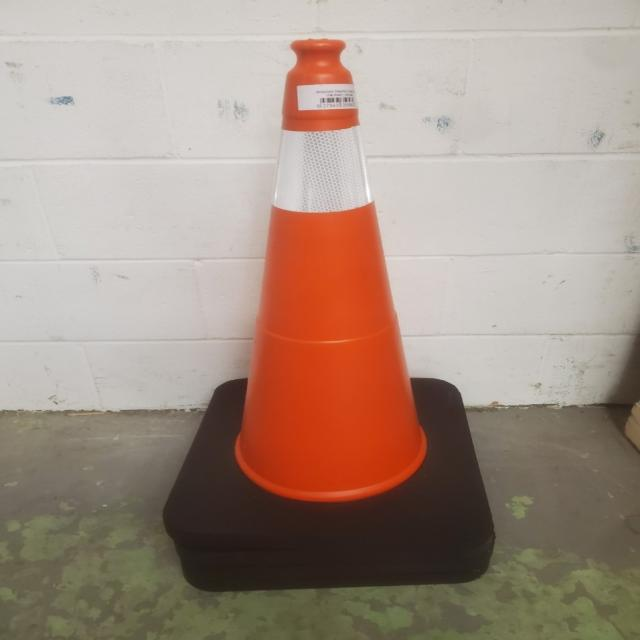cone: (195, 39, 444, 498)
